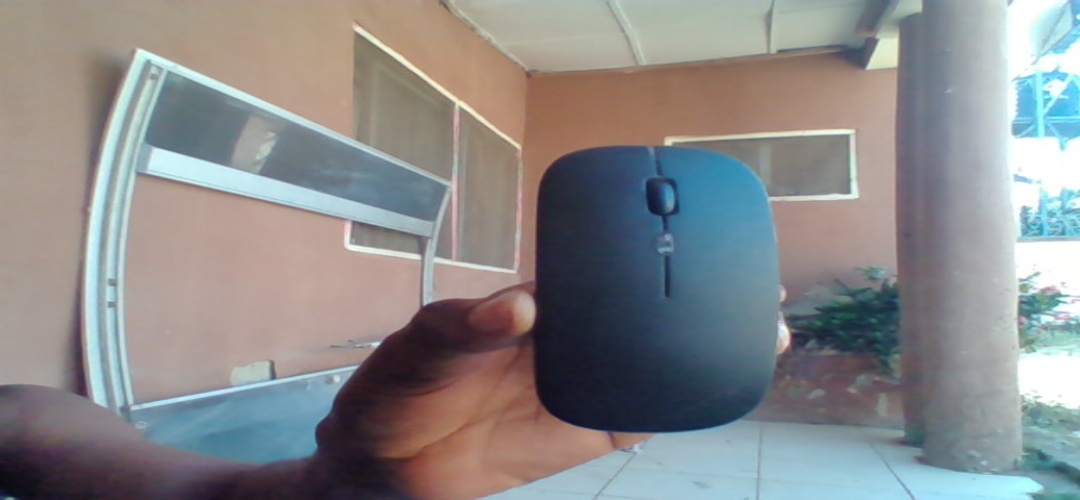wireless_mouse: (532, 139, 783, 439)
